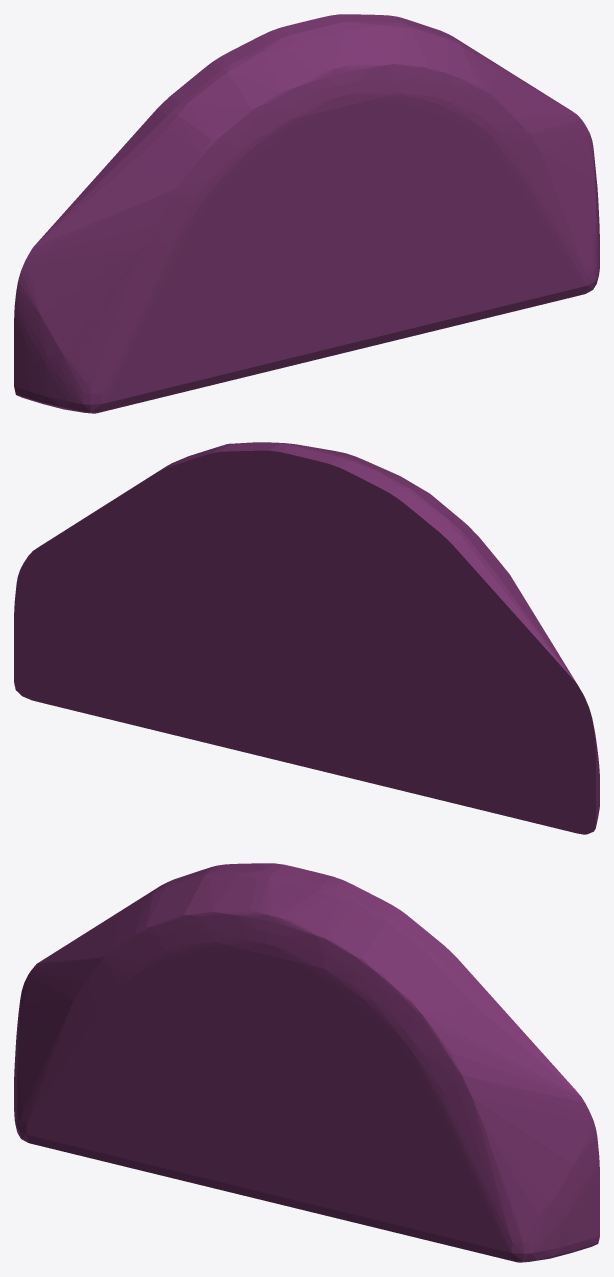
File: pelvis_part_28.obj
3 views of the same model, one above another, from view 1: azimuth 30°, elevation 25°; view 2: azimuth 150°, elevation 25°; view 3: azimuth 330°, elevation 25° (orthographic).
Bounding box in the file's own units: 0.1307 × 0.0664 × 0.0155.
